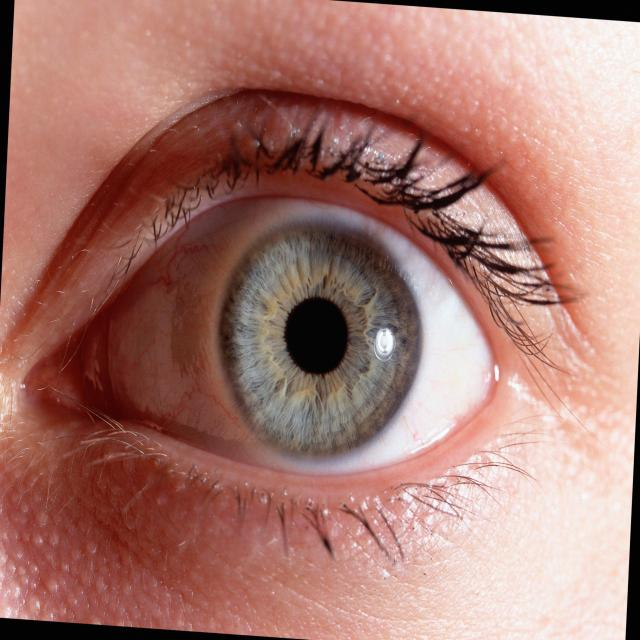Healthy-Eye: (53, 104, 562, 555)
